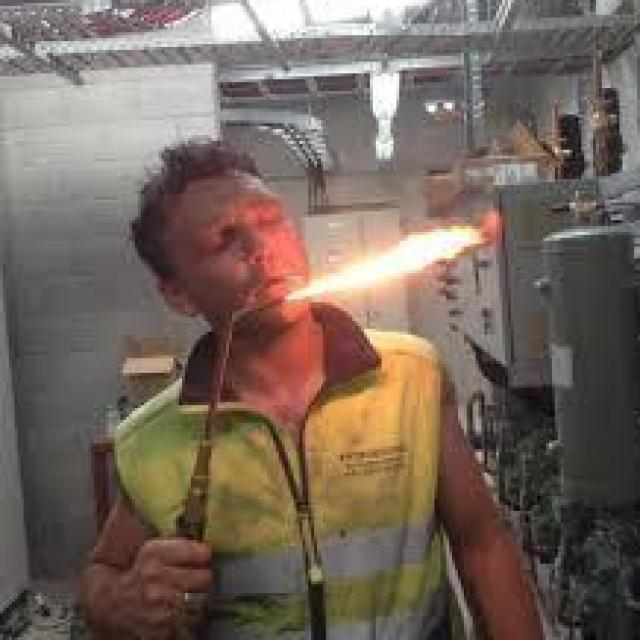smoke: (282, 212, 496, 300)
